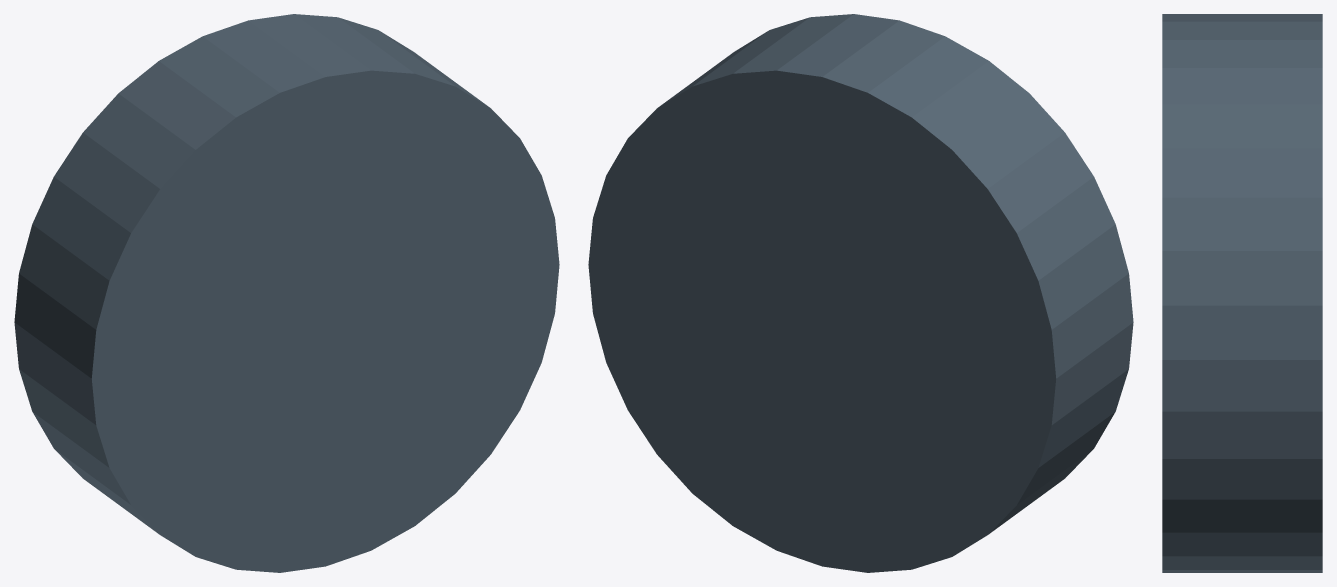
File: drone_sensor_steel.obj
3 renders of one model, left to right at view 1: azimuth 30°, elevation 25°; view 2: azimuth 150°, elevation 25°; view 3: azimuth 270°, elevation 25°, orthographic. The views are drawn at different scales.
Parts seen in each view (by area): view 1: part_000; view 2: part_000; view 3: part_000.
Boxes of the visible parts, x1=… form: part_000: x1=14, y1=14, x2=559, y2=572; part_000: x1=588, y1=14, x2=1133, y2=572; part_000: x1=1162, y1=14, x2=1322, y2=572.
Size of the model in its own units: 0.454 by 0.454 by 0.13.
